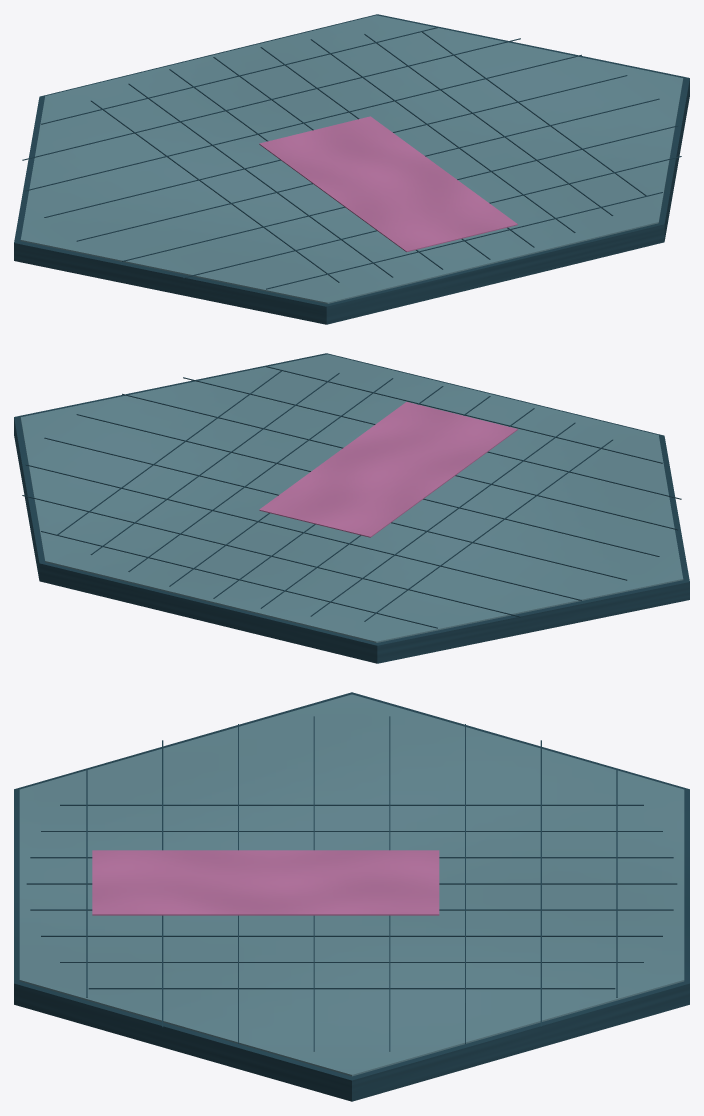
File: atlas100-s064-a07.lod1.glb
3 views of the same model, one above another, from view 1: azimuth 30°, elevation 25°; view 2: azimuth 150°, elevation 25°; view 3: azimuth 270°, elevation 25° (orthographic). The views are drawn at different scales.
Parts seen in each view (by area): view 1: atlas100-s064-a07:part-001, atlas100-s064-a07:part-000, atlas100-s064-a07:part-021, atlas100-s064-a07:part-015, atlas100-s064-a07:part-014, atlas100-s064-a07:part-017, atlas100-s064-a07:part-016, atlas100-s064-a07:part-018, atlas100-s064-a07:part-013, atlas100-s064-a07:part-020, atlas100-s064-a07:part-019, atlas100-s064-a07:part-005 (+3 smaller); view 2: atlas100-s064-a07:part-001, atlas100-s064-a07:part-000, atlas100-s064-a07:part-021, atlas100-s064-a07:part-015, atlas100-s064-a07:part-014, atlas100-s064-a07:part-016, atlas100-s064-a07:part-017, atlas100-s064-a07:part-018, atlas100-s064-a07:part-013, atlas100-s064-a07:part-020, atlas100-s064-a07:part-019, atlas100-s064-a07:part-005 (+3 smaller); view 3: atlas100-s064-a07:part-001, atlas100-s064-a07:part-021, atlas100-s064-a07:part-000, atlas100-s064-a07:part-009, atlas100-s064-a07:part-004, atlas100-s064-a07:part-011, atlas100-s064-a07:part-005.
Part boxes in pixels (box(x1,y1,x2,y2)): atlas100-s064-a07:part-001: box(20, 15, 683, 303); atlas100-s064-a07:part-000: box(14, 14, 689, 324); atlas100-s064-a07:part-021: box(259, 116, 517, 252); atlas100-s064-a07:part-015: box(25, 54, 581, 191); atlas100-s064-a07:part-014: box(22, 38, 520, 160); atlas100-s064-a07:part-017: box(76, 98, 659, 241); atlas100-s064-a07:part-016: box(44, 75, 627, 217); atlas100-s064-a07:part-018: box(122, 125, 677, 261); atlas100-s064-a07:part-013: box(41, 27, 437, 124); atlas100-s064-a07:part-020: box(266, 192, 662, 289); atlas100-s064-a07:part-019: box(183, 156, 681, 278); atlas100-s064-a07:part-005: box(128, 83, 393, 277); atlas100-s064-a07:part-001: box(20, 354, 683, 642); atlas100-s064-a07:part-000: box(14, 353, 689, 663); atlas100-s064-a07:part-021: box(259, 402, 517, 537); atlas100-s064-a07:part-015: box(26, 464, 581, 600); atlas100-s064-a07:part-014: box(22, 495, 520, 617); atlas100-s064-a07:part-016: box(44, 437, 627, 580); atlas100-s064-a07:part-017: box(76, 414, 659, 556); atlas100-s064-a07:part-018: box(122, 393, 678, 530); atlas100-s064-a07:part-013: box(41, 531, 437, 628); atlas100-s064-a07:part-020: box(266, 366, 662, 463); atlas100-s064-a07:part-019: box(183, 377, 681, 499); atlas100-s064-a07:part-005: box(310, 422, 575, 616); atlas100-s064-a07:part-001: box(19, 694, 684, 1076); atlas100-s064-a07:part-021: box(92, 850, 439, 915); atlas100-s064-a07:part-000: box(14, 692, 689, 1101); atlas100-s064-a07:part-009: box(41, 935, 662, 936); atlas100-s064-a07:part-004: box(60, 804, 643, 805); atlas100-s064-a07:part-011: box(88, 988, 615, 989); atlas100-s064-a07:part-005: box(41, 831, 662, 831).
Bounding box in the file's own units: 13.35 × 0.404 × 9.82.
3 materials, 3 textured.
